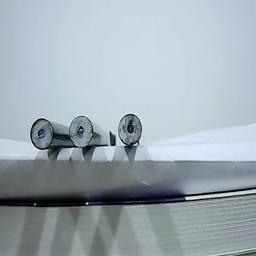pen: (28, 116, 54, 149), (117, 113, 143, 145), (68, 115, 93, 147)
